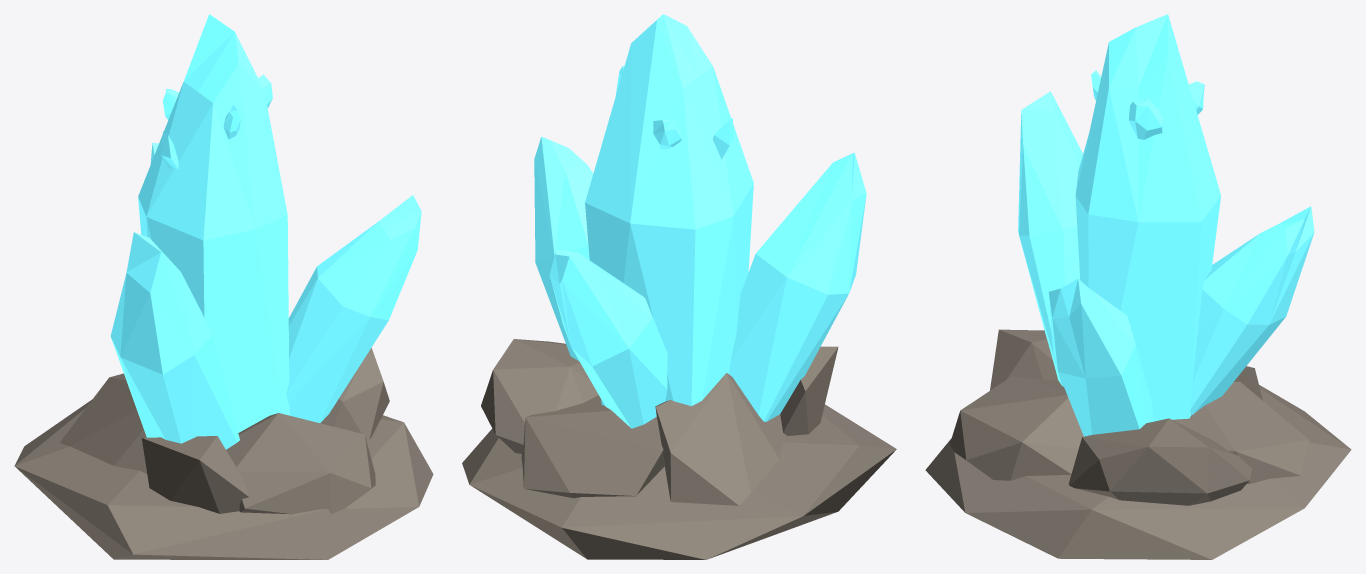
Rendered from rock-05.glb.
3 renders of one model, left to right at view 1: azimuth 30°, elevation 25°; view 2: azimuth 150°, elevation 25°; view 3: azimuth 270°, elevation 25°, orthographic.
Parts seen in each view (by area): view 1: Crystal1; view 2: Crystal1; view 3: Crystal1.
Boxes of the visible parts, left/top/right/bottom form: Crystal1: left=14, top=14, right=433, bottom=559; Crystal1: left=462, top=14, right=896, bottom=559; Crystal1: left=925, top=14, right=1351, bottom=559.
Bounding box in the file's own units: 1.37 × 1.88 × 1.49.
